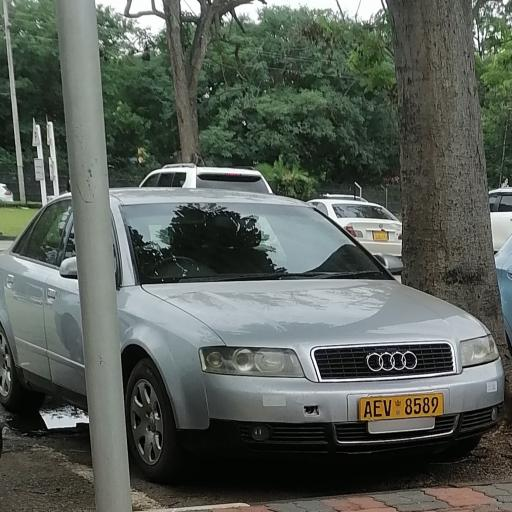number-plates: (359, 392, 446, 422)
